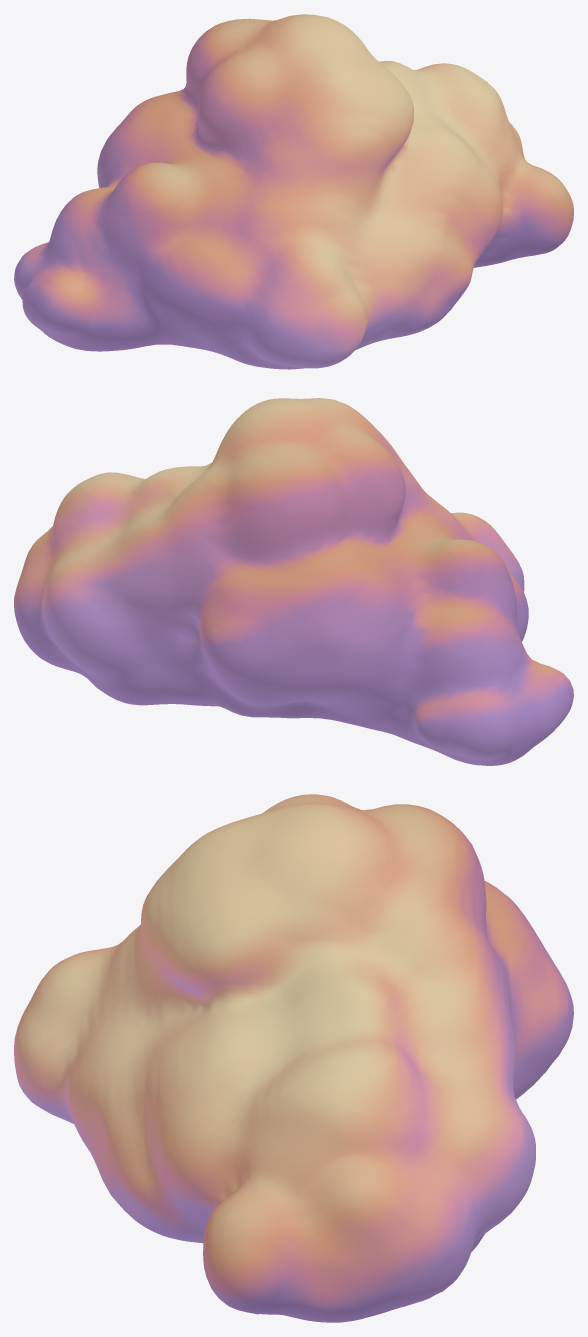
Rendered from nube1.glb.
3 views of the same model, one above another, from view 1: azimuth 30°, elevation 25°; view 2: azimuth 150°, elevation 25°; view 3: azimuth 270°, elevation 25° (orthographic). The views are drawn at different scales.
Visible parts, largest first — view 1: nube_04_pequena; view 2: nube_04_pequena; view 3: nube_04_pequena.
Boxes of the visible parts, x1,y1,x2,y2 form: nube_04_pequena: [14, 14, 573, 369]; nube_04_pequena: [14, 398, 573, 765]; nube_04_pequena: [14, 794, 573, 1322].
Bounding box in the file's own units: 4 × 2.13 × 2.78.
